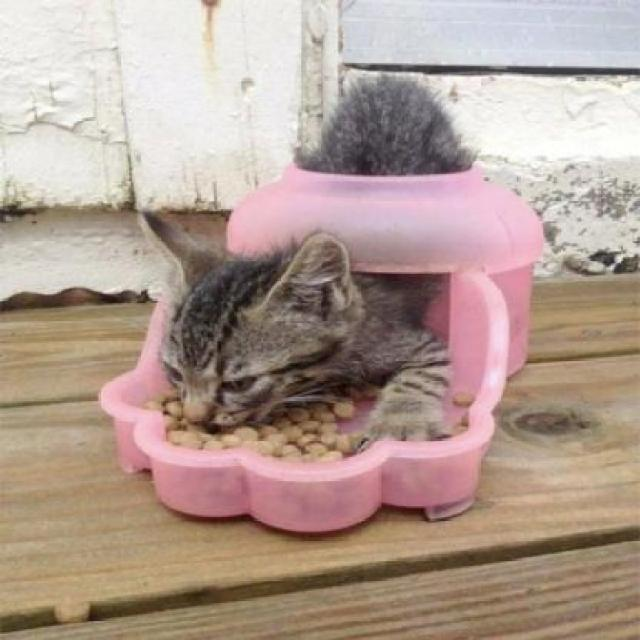cat: (118, 227, 398, 436)
